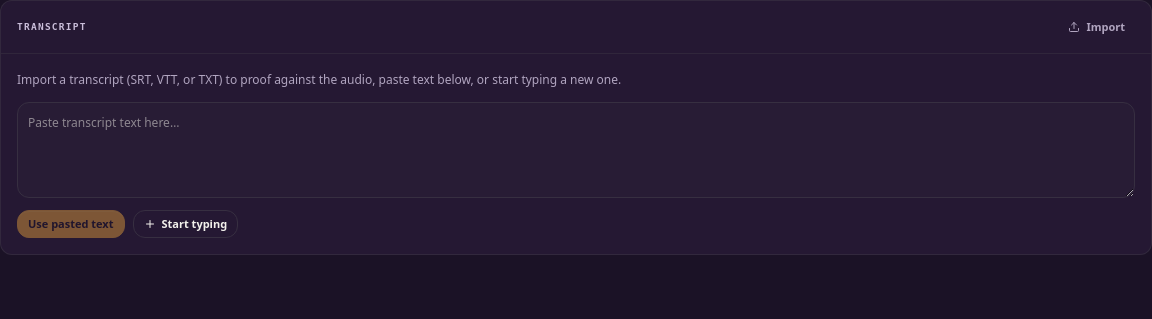
it: Transcript storage and timestamps › reports transcript import failures instead of treating them as cancellation
Click the button "Import".
click(1097, 27)  # box left=1058, top=13, right=1135, bottom=41
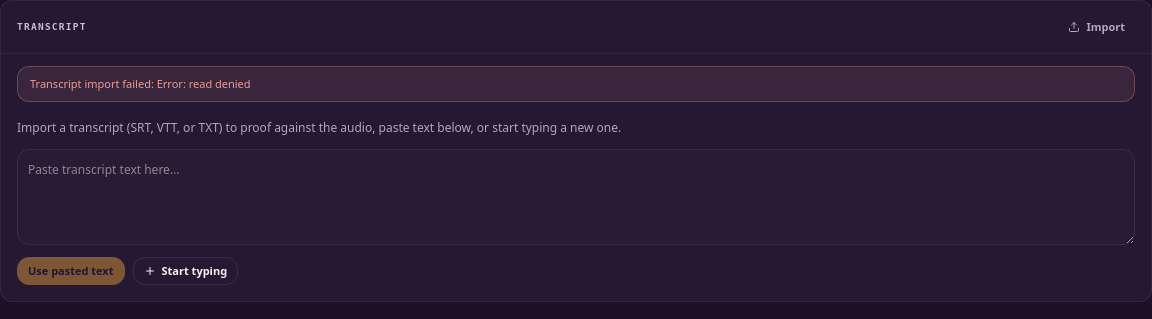
Expected: the message reads "Transcript import failed: Error: read denied", left=30, top=76, right=251, bottom=91
